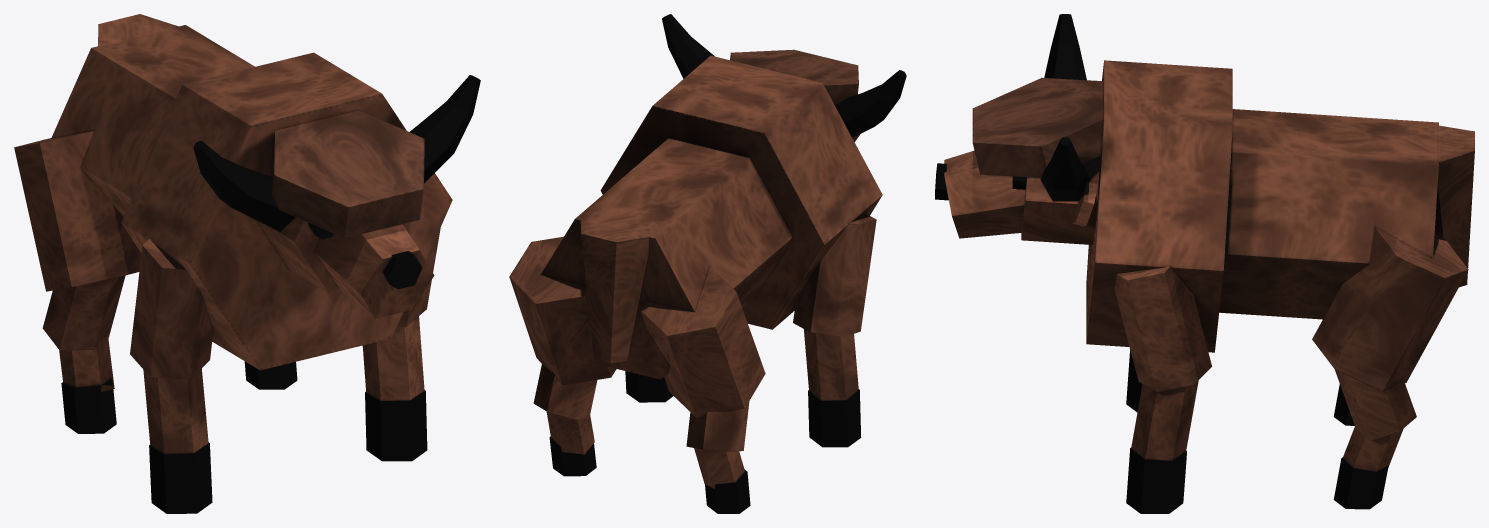
Rendered from Orion_Baked.glb.
The picture shows the model from 3 angles, left to right: view 1: azimuth 30°, elevation 25°; view 2: azimuth 150°, elevation 25°; view 3: azimuth 270°, elevation 25°; orthographic projection. The views are drawn at different scales.
Parts seen in each view (by area): view 1: Cylinder; view 2: Cylinder; view 3: Cylinder.
Boxes of the visible parts, x1,y1,x2,y2 form: Cylinder: (14,14,480,513); Cylinder: (509,14,906,513); Cylinder: (935,14,1474,513).
Bounding box in the file's own units: 4.79 × 6.57 × 8.38.
Materials: 3 (2 with a texture image).
